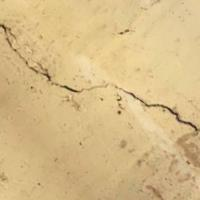crack: (0, 13, 200, 165)
